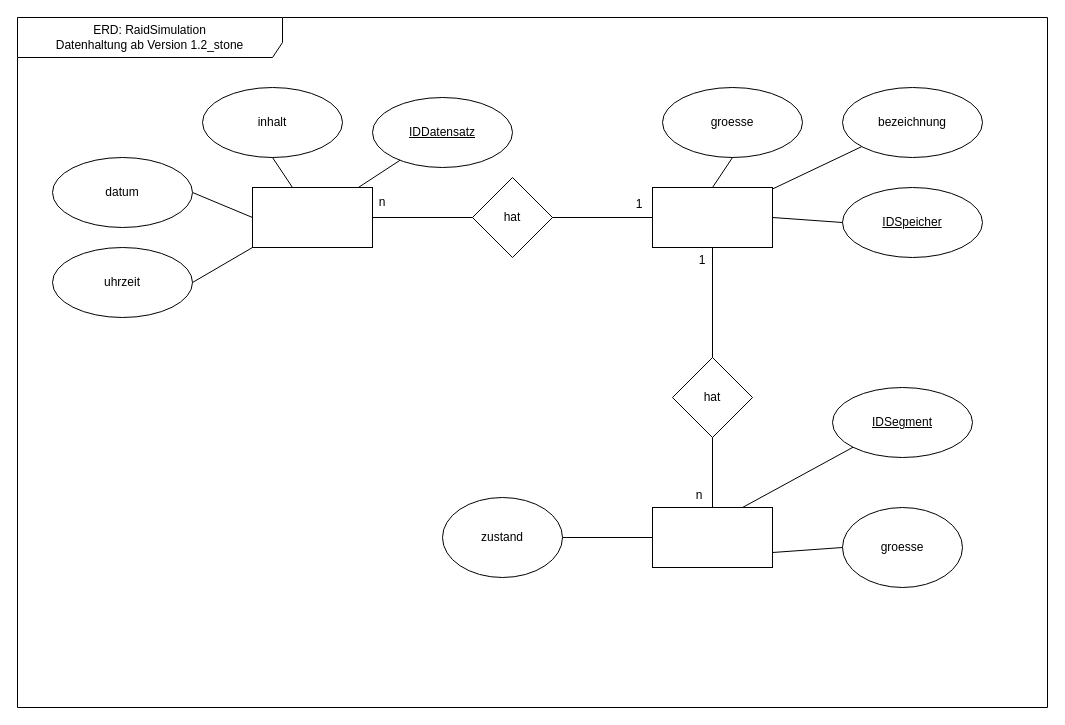
This 1065x725 diagram has some shape labels left out. The shapes that lost their labels are listed below. From the top down, each one's centre as x and y in pixels, then its label:
At (x=312, y=217): "Datensatz".
At (x=712, y=217): "Speicher".
At (x=712, y=537): "Segment".
